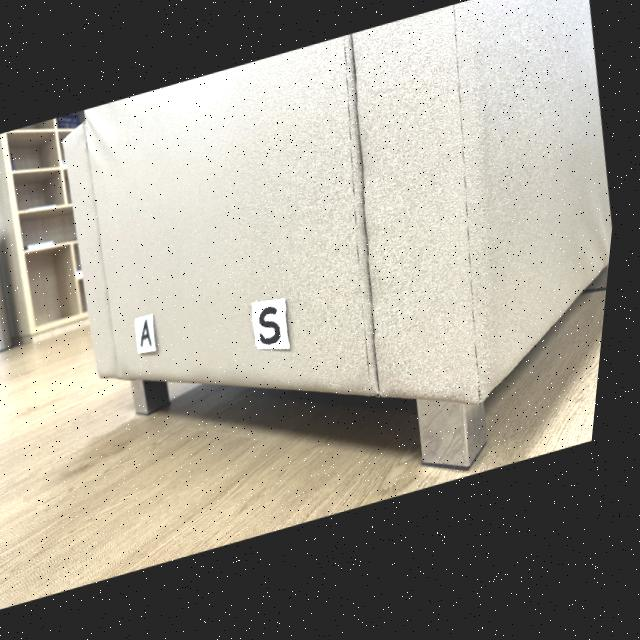A: (148, 323, 159, 350)
S: (267, 312, 289, 351)
